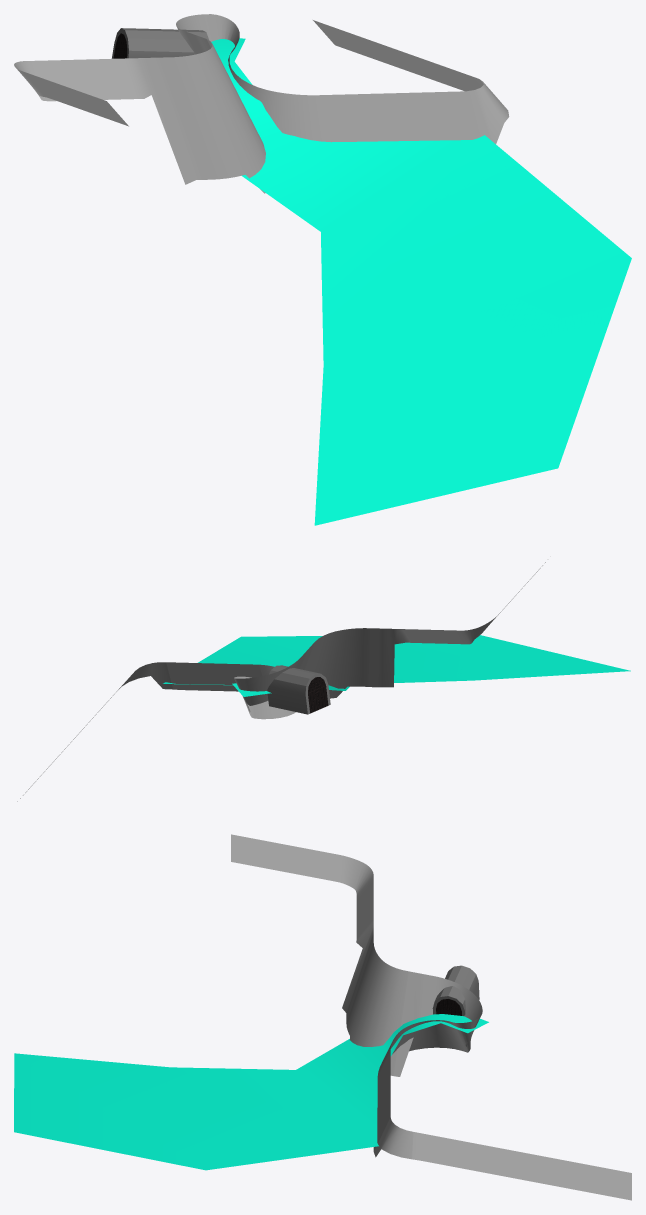
Rendered from Grounds.fbx.
3 renders of one model, top to bottom at view 1: azimuth 30°, elevation 25°; view 2: azimuth 150°, elevation 25°; view 3: azimuth 270°, elevation 25°, orthographic. The views are drawn at different scales.
Parts seen in each view (by area): view 1: pPlane2, polySurface5, pCylinder66; view 2: polySurface5, pPlane2, pCylinder66; view 3: pPlane2, polySurface5, pCylinder66.
Boxes of the visible parts, left/top/right/bottom form: pPlane2: left=211, top=38, right=631, bottom=525; polySurface5: left=14, top=14, right=509, bottom=193; pCylinder66: left=111, top=28, right=208, bottom=58; polySurface5: left=17, top=562, right=545, bottom=801; pPlane2: left=163, top=635, right=630, bottom=696; pCylinder66: left=267, top=665, right=330, bottom=714; pPlane2: left=14, top=1014, right=488, bottom=1170; polySurface5: left=231, top=834, right=631, bottom=1200; pCylinder66: left=432, top=965, right=479, bottom=1015.
Size of the model in its own units: 355 by 200 by 543.
3 materials, 3 textured.
